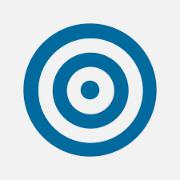bulls eye: (20, 21, 158, 160)
